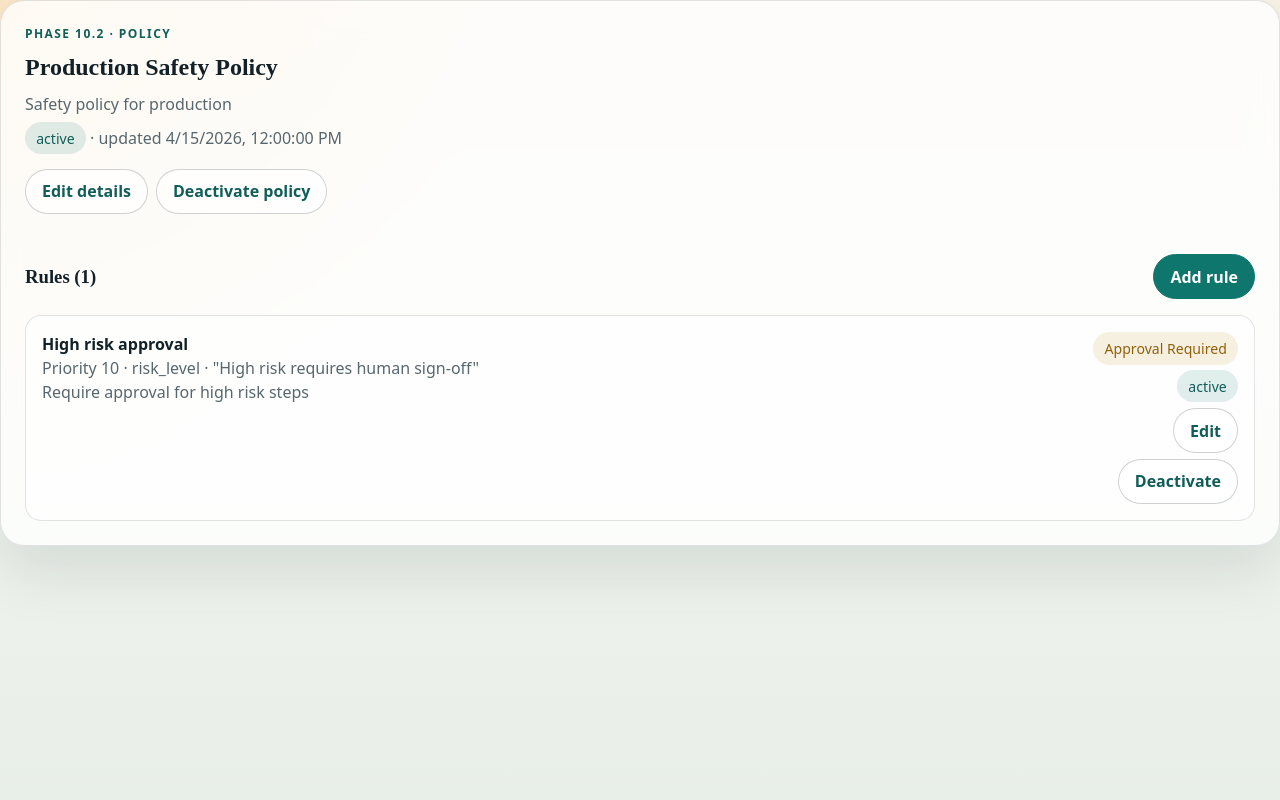
it: PolicyDetailPage › shows edit form when Edit details button is clicked
The width and height of the screenshot is (1280, 800).
Click the button "Edit details": (86, 192) 25,169 -> 148,214
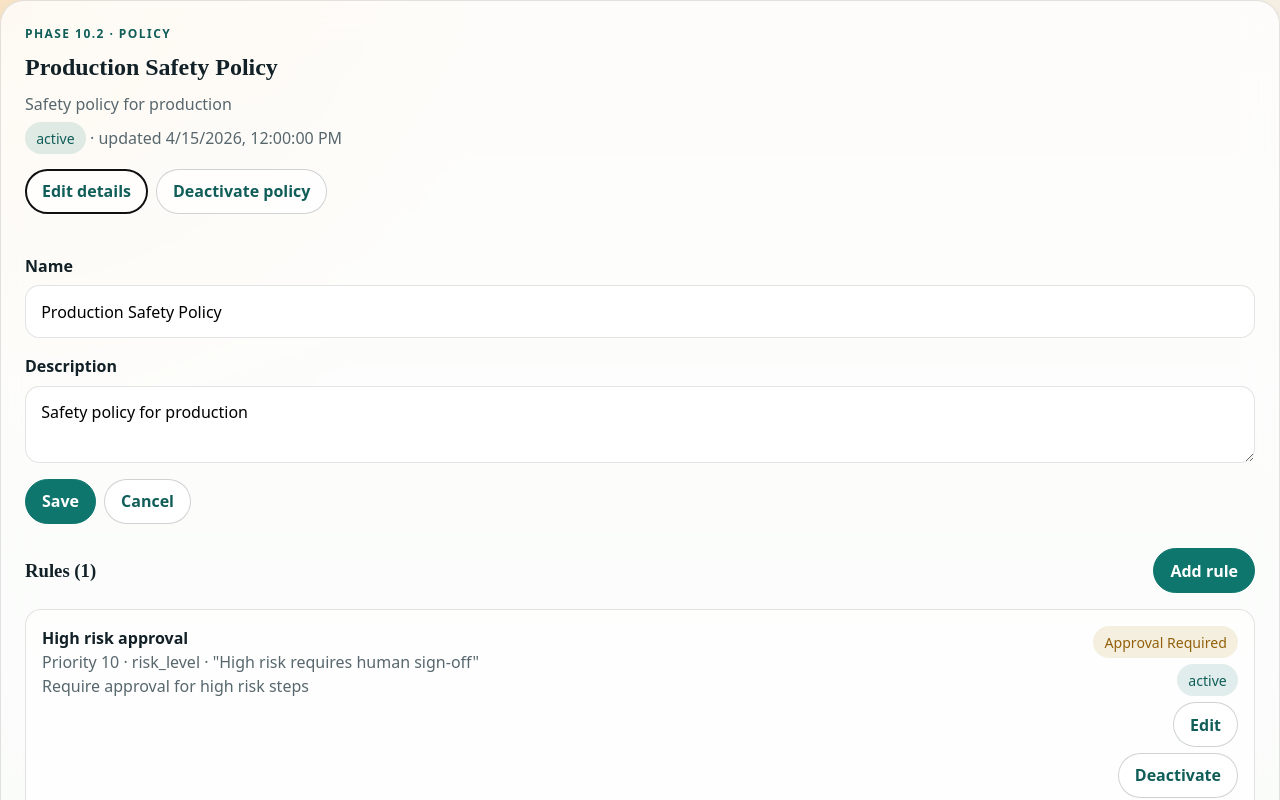
Now the button "Save" is shown, box 25,479 -> 96,524
